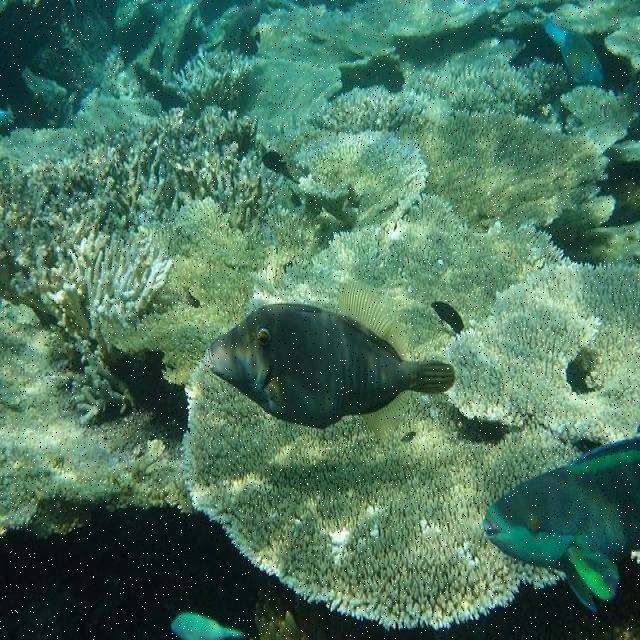fish: (207, 277, 456, 442), (485, 435, 639, 612), (171, 612, 245, 639), (431, 301, 465, 332)
reefs: (183, 358, 590, 630), (248, 193, 570, 360), (107, 200, 319, 386), (446, 263, 638, 444), (402, 113, 605, 230), (295, 132, 430, 228)
